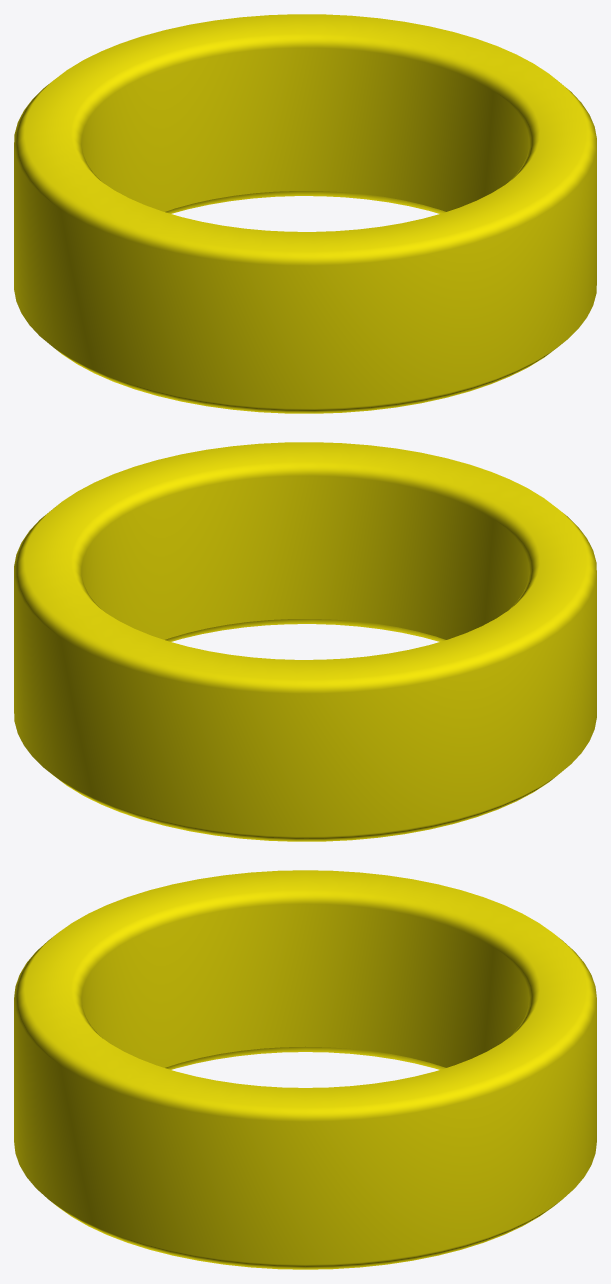
3 renders of one model, top to bottom at view 1: azimuth 30°, elevation 25°; view 2: azimuth 150°, elevation 25°; view 3: azimuth 270°, elevation 25°, orthographic.
Parts seen in each view (by area): view 1: seal_body; view 2: seal_body; view 3: seal_body.
Part boxes in pixels (x1=…): seal_body: x1=14, y1=14, x2=596, y2=413; seal_body: x1=14, y1=442, x2=596, y2=841; seal_body: x1=14, y1=870, x2=596, y2=1269.
Size of the model in its own units: 0.0228 by 0.007 by 0.0228.
